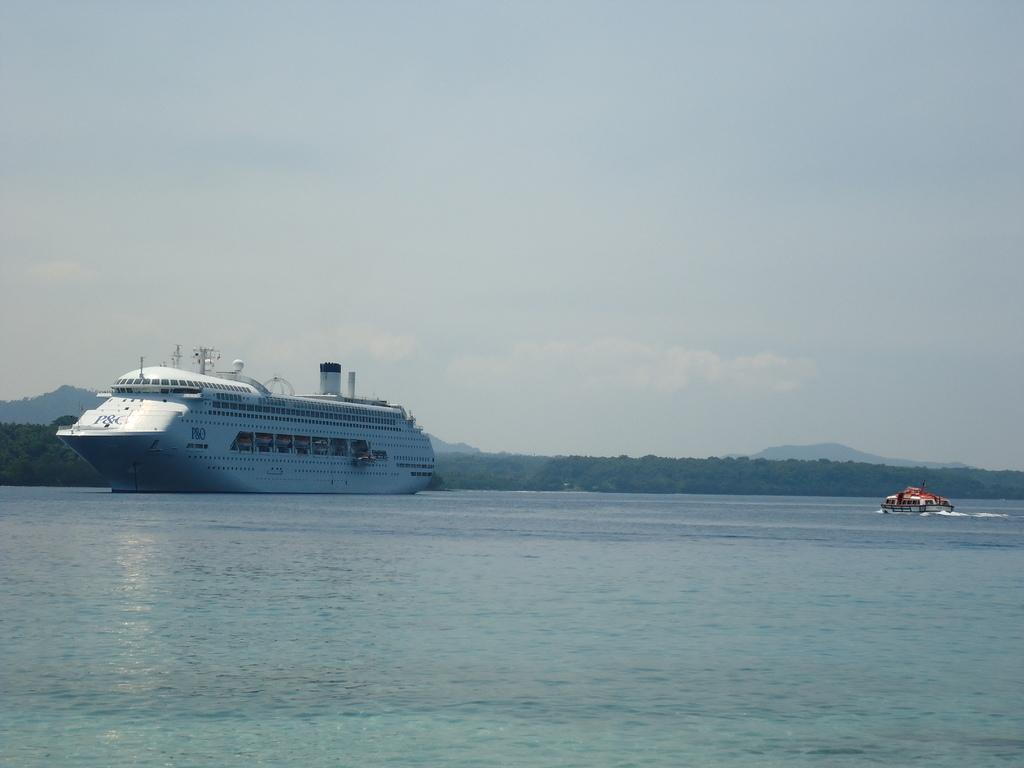PassengerShip: (52, 348, 440, 494), (877, 480, 953, 520)
